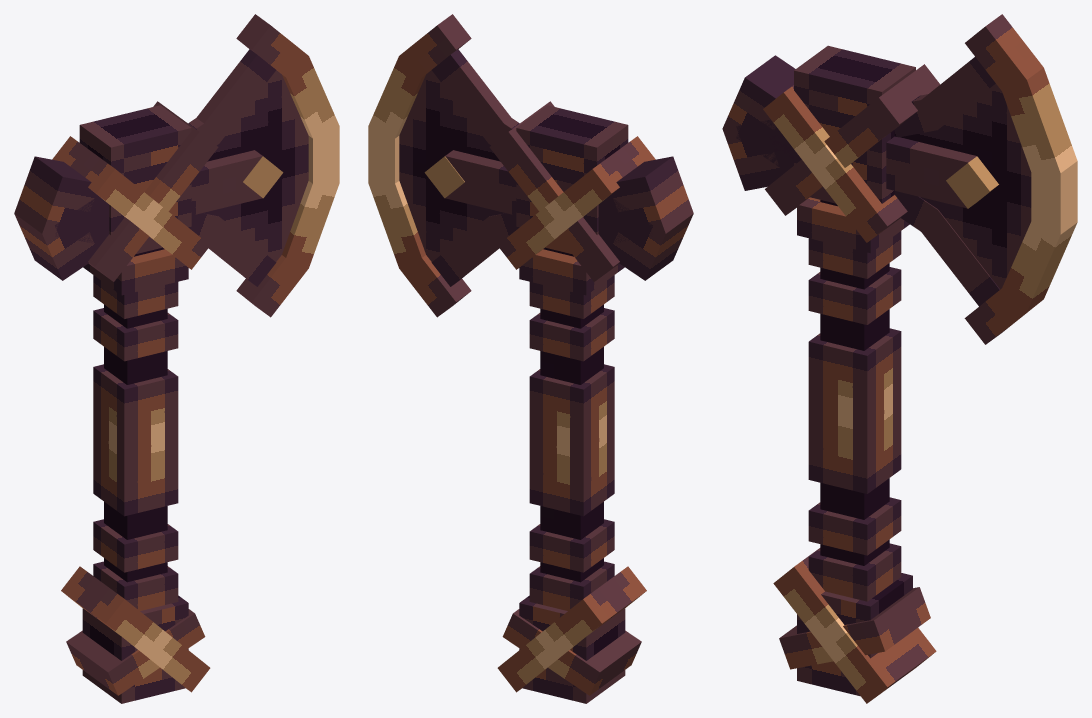
The model's file is axe-wooden.gltf.
3 views of the same model, side by side, from view 1: azimuth 30°, elevation 25°; view 2: azimuth 150°, elevation 25°; view 3: azimuth 330°, elevation 25° (orthographic). The views are drawn at different scales.
Parts seen in each view (by area): view 1: cube (×26); view 2: cube (×26); view 3: cube (×27).
Boxes of the visible parts, left/top/right/bottom form: cube (×26): left=14, top=14, right=339, bottom=703; cube (×26): left=368, top=14, right=693, bottom=703; cube (×27): left=722, top=14, right=1077, bottom=703.
Bounding box in the file's own units: 0.4704 × 0.9368 × 0.1208.
1 material, 1 textured.
